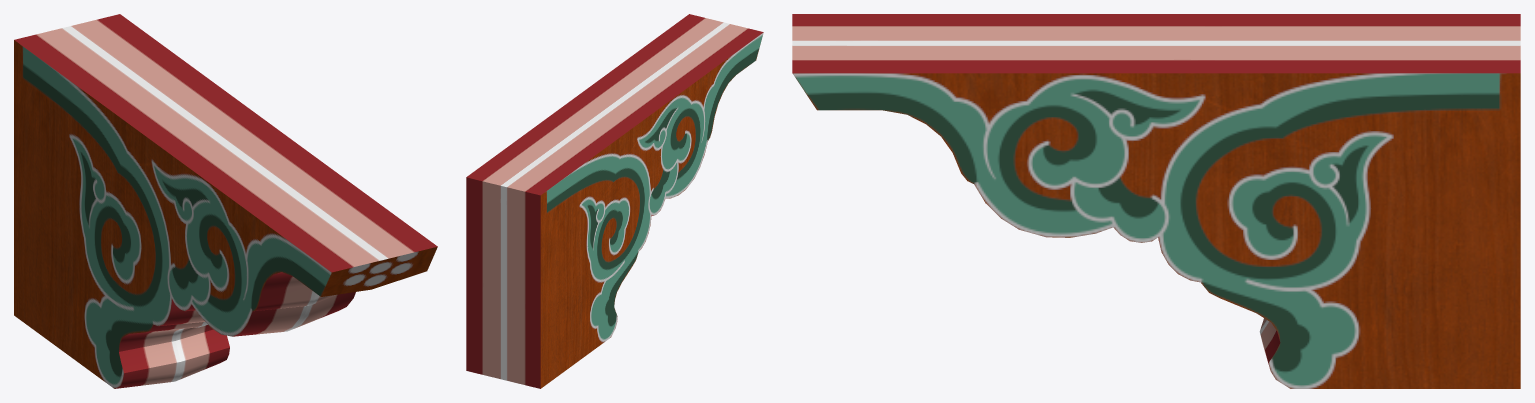
File: SM_Boaji06G.fbx
3 renders of one model, left to right at view 1: azimuth 30°, elevation 25°; view 2: azimuth 150°, elevation 25°; view 3: azimuth 270°, elevation 25°, orthographic. The views are drawn at different scales.
Parts seen in each view (by area): view 1: SM_Boaji06G; view 2: SM_Boaji06G; view 3: SM_Boaji06G.
Part boxes in pixels (x1=…): SM_Boaji06G: x1=14, y1=14, x2=437, y2=388; SM_Boaji06G: x1=466, y1=14, x2=763, y2=388; SM_Boaji06G: x1=792, y1=14, x2=1520, y2=388.
Size of the model in its own units: 7.62 by 39.58 by 18.93.
1 material, 1 textured.
